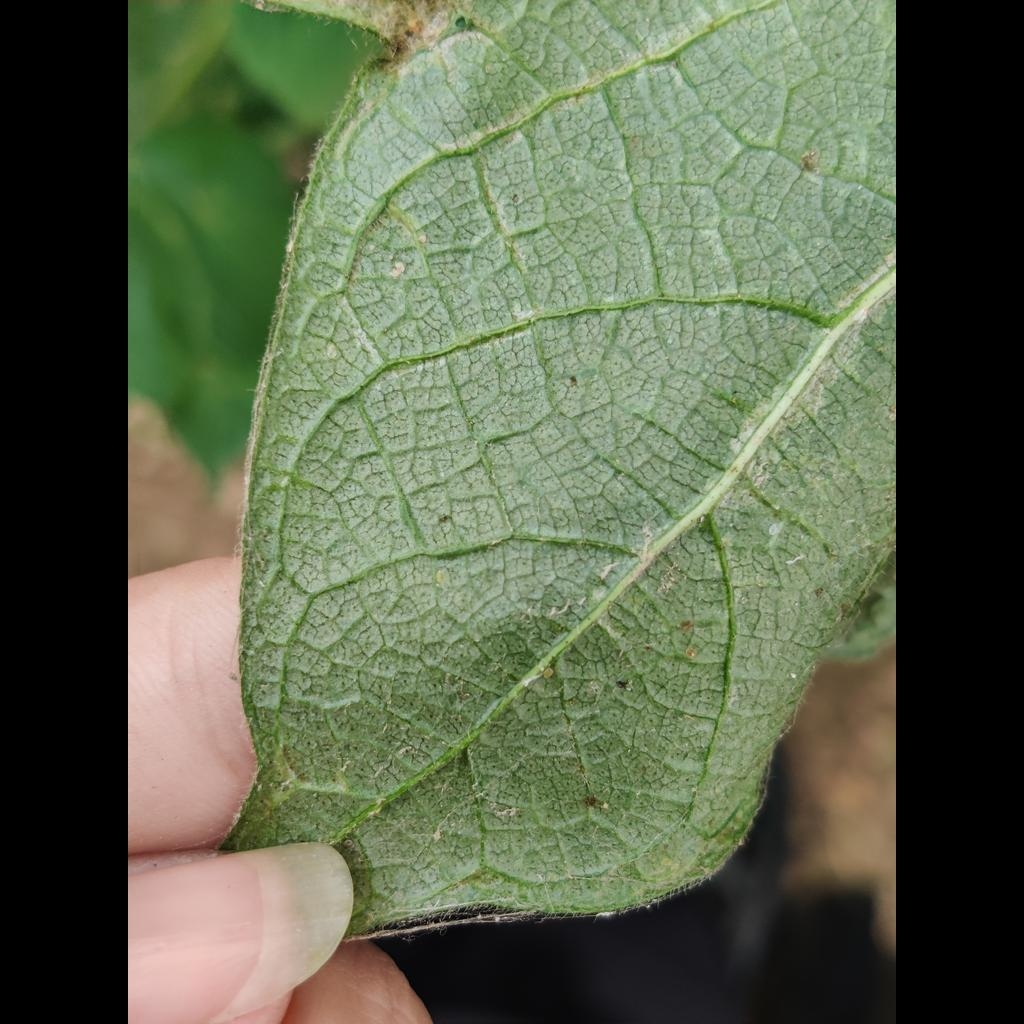nymph: (326, 346, 336, 359), (436, 570, 445, 584), (543, 667, 553, 678), (769, 524, 777, 535), (418, 235, 426, 243), (790, 673, 797, 679)
